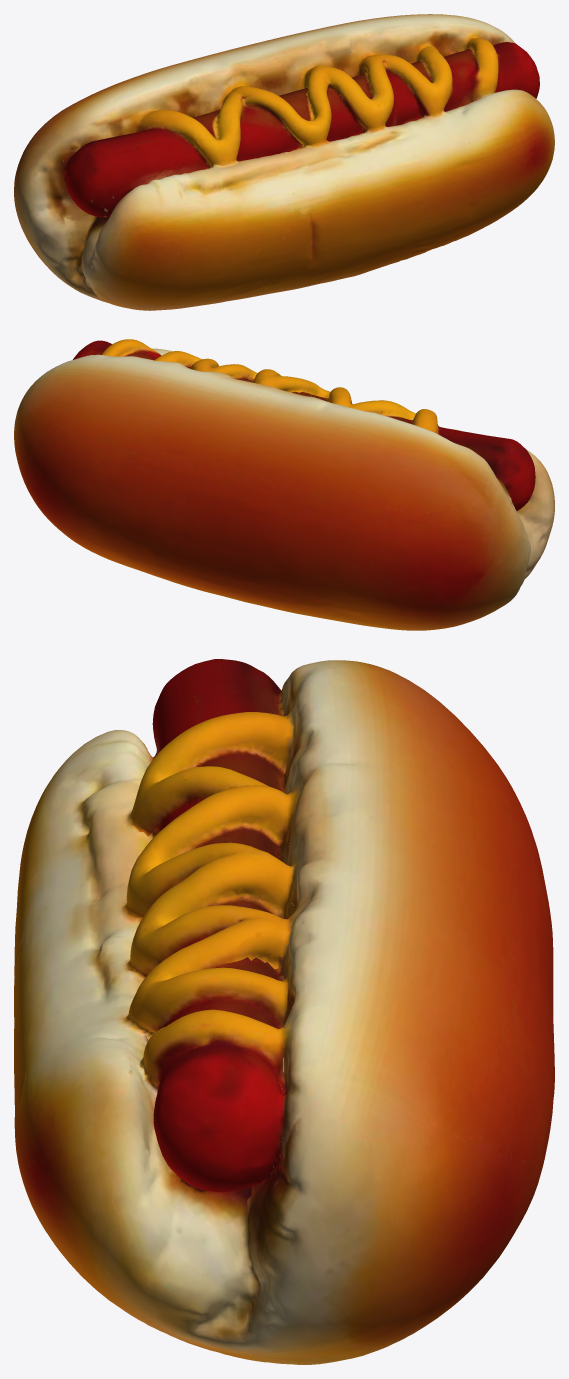
File: hotdog.glb
The picture shows the model from 3 angles, top to bottom: view 1: azimuth 30°, elevation 25°; view 2: azimuth 150°, elevation 25°; view 3: azimuth 270°, elevation 25°; orthographic projection. The views are drawn at different scales.
Parts seen in each view (by area): view 1: tmprofcevz0.ply; view 2: tmprofcevz0.ply; view 3: tmprofcevz0.ply.
Part boxes in pixels (bbox=[...]): tmprofcevz0.ply: bbox=[14, 14, 554, 310]; tmprofcevz0.ply: bbox=[14, 339, 554, 630]; tmprofcevz0.ply: bbox=[14, 659, 554, 1364].
Bounding box in the file's own units: 0.2005 × 0.0779 × 0.0954.
2 materials, 2 textured.
